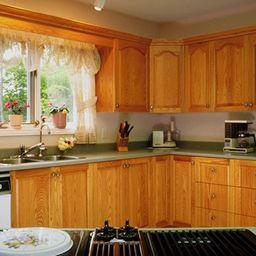Electrodomestico: (8, 223, 255, 254)
Lavaplatos: (3, 119, 80, 167)
